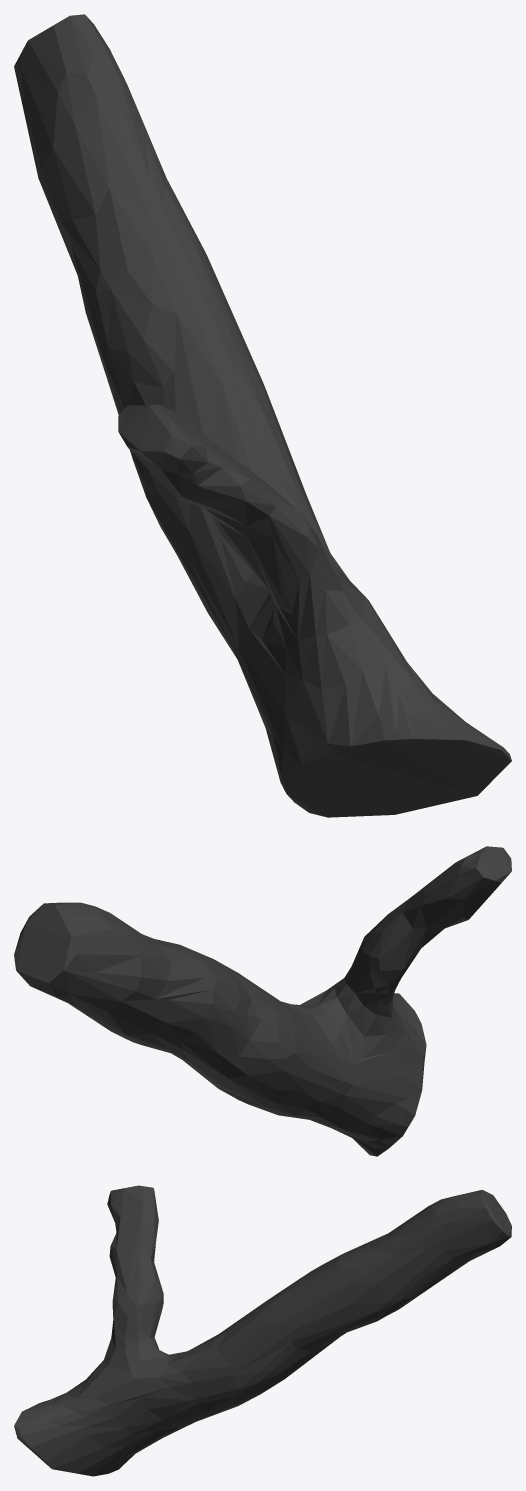
Rendered from Int_iliac_vv_R.glb.
3 renders of one model, top to bottom at view 1: azimuth 30°, elevation 25°; view 2: azimuth 150°, elevation 25°; view 3: azimuth 270°, elevation 25°, orthographic. The views are drawn at different scales.
Parts seen in each view (by area): view 1: Int_iliac_vv_R; view 2: Int_iliac_vv_R; view 3: Int_iliac_vv_R.
Part boxes in pixels (<box>): Int_iliac_vv_R: <box>14,14,511,817</box>; Int_iliac_vv_R: <box>14,846,511,1156</box>; Int_iliac_vv_R: <box>14,1185,511,1476</box>.
Size of the model in its own units: 0.0947 by 0.1687 by 0.2546.
Materials: 1 (1 with a texture image).
